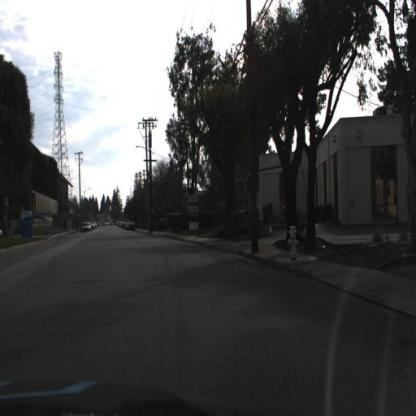car: (82, 222, 89, 233), (128, 222, 135, 231), (85, 223, 92, 231), (124, 222, 130, 230), (89, 223, 95, 229), (120, 221, 124, 228), (92, 222, 97, 227), (118, 221, 122, 226), (103, 222, 107, 226), (109, 222, 112, 226), (107, 222, 110, 226), (112, 223, 115, 225)
